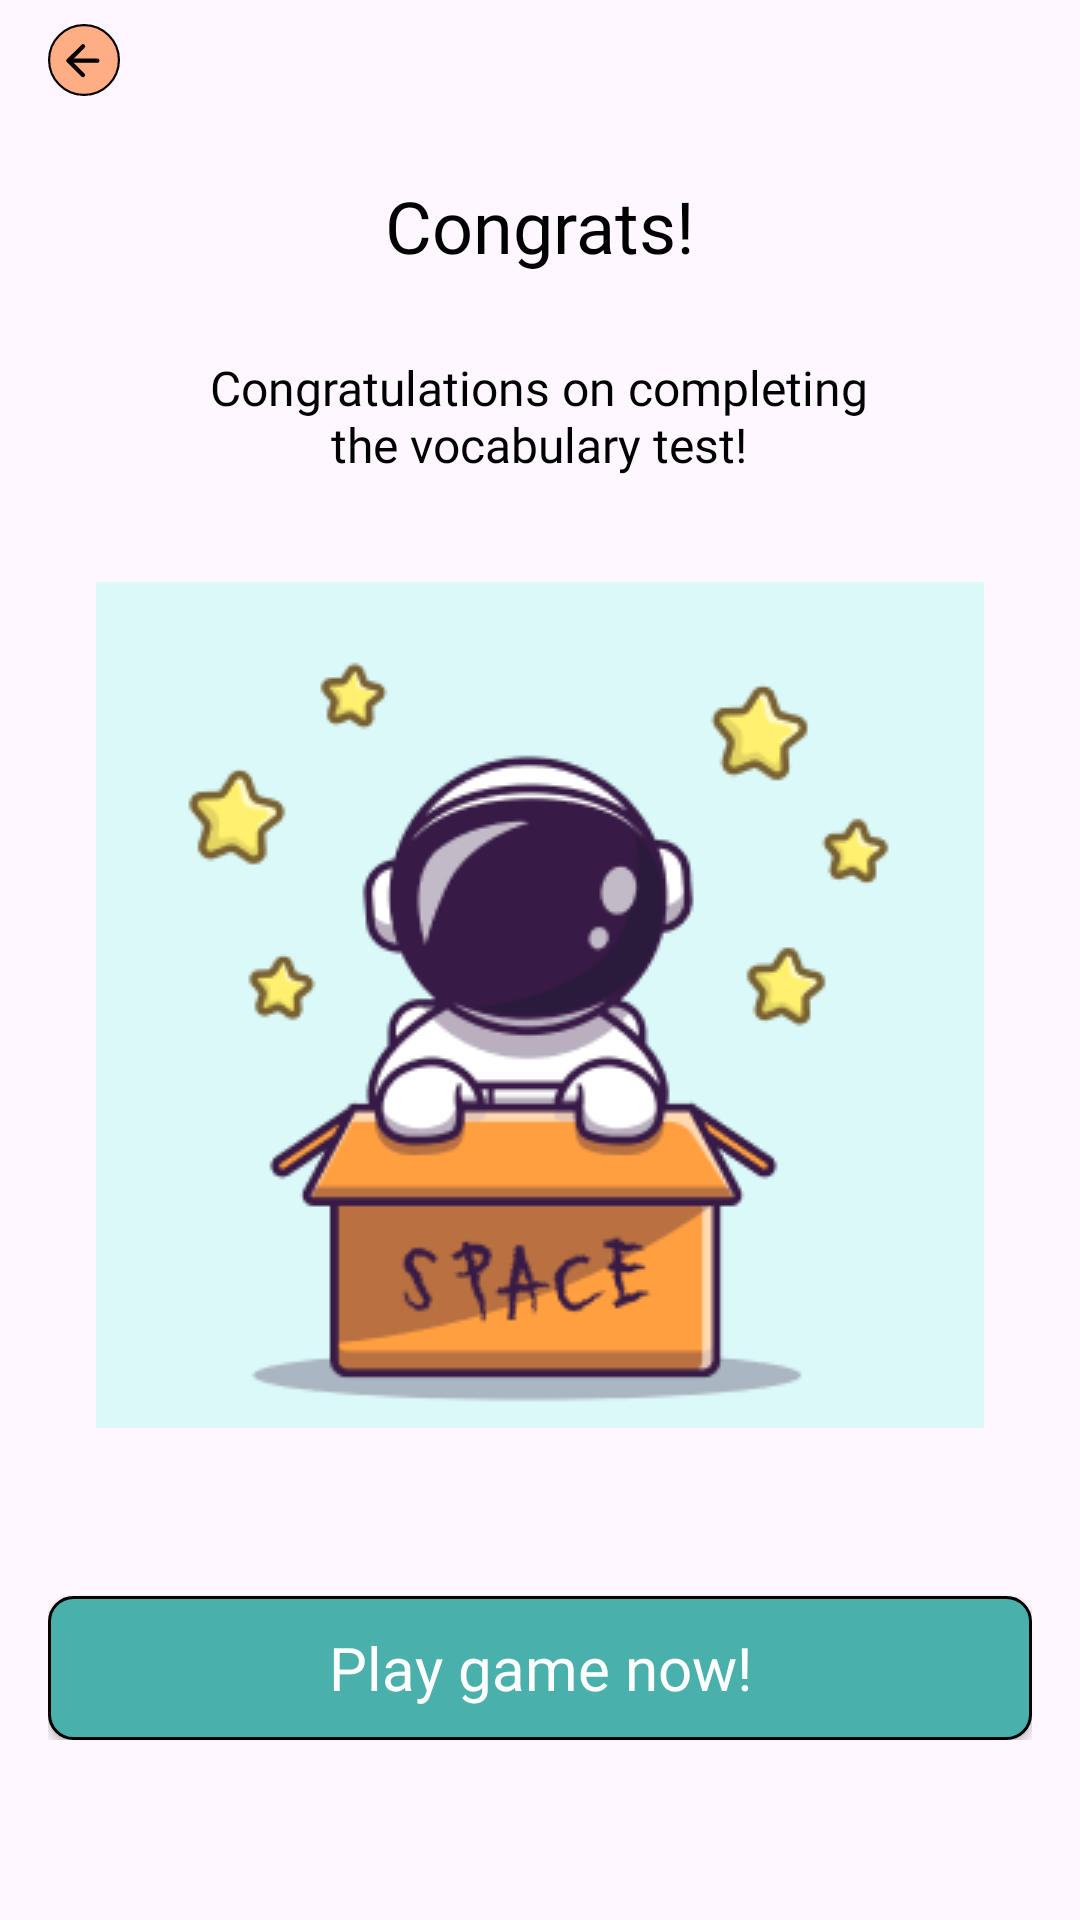

Where icons sit on this 1080 x 1920 app screen, as region(x1, y1, x2, y2):
back: region(48, 24, 120, 96)
